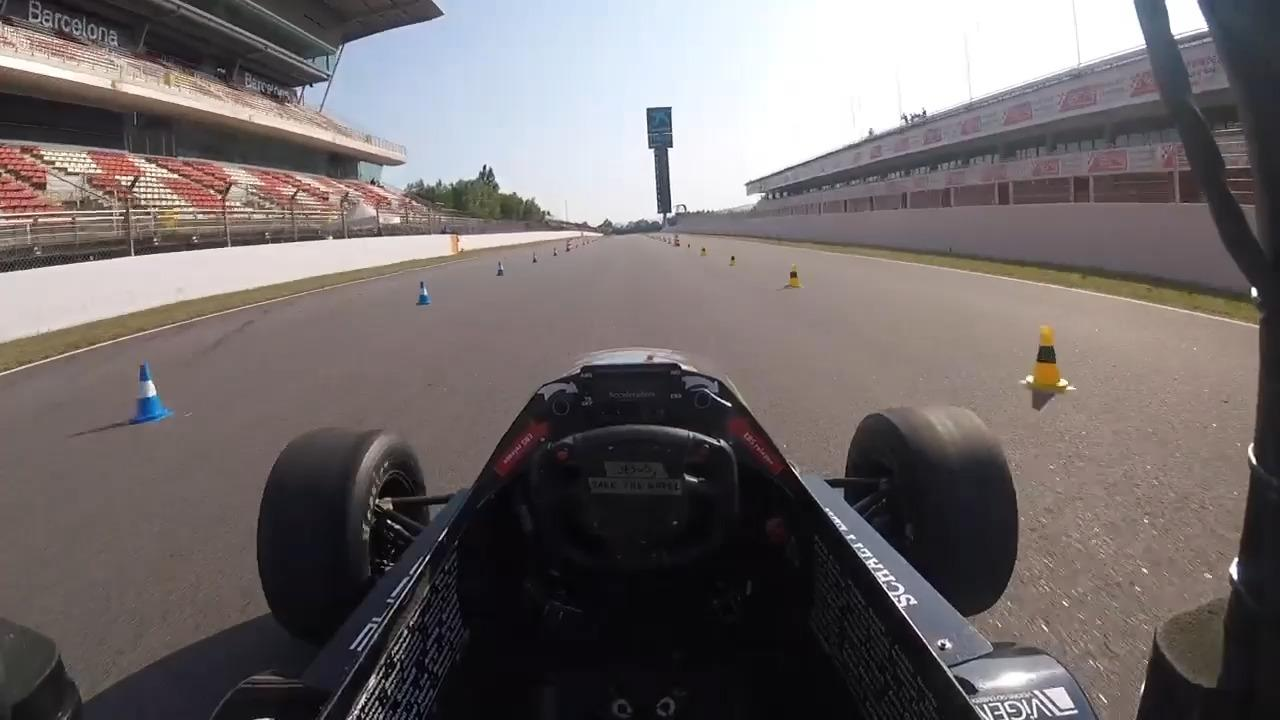blue_cone: (126, 363, 170, 435), (409, 274, 437, 308), (483, 256, 510, 285), (518, 244, 543, 271)
yellow_cone: (1024, 326, 1079, 385), (786, 261, 809, 294), (723, 244, 745, 270)
